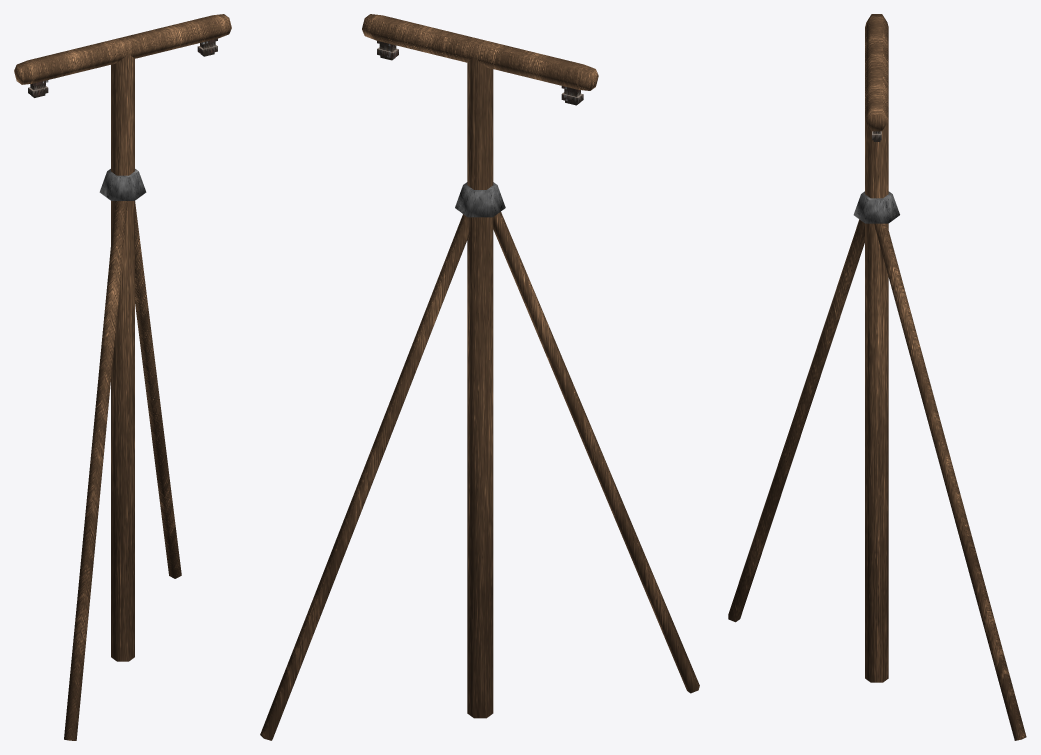
File: LightPillar.fbx
3 views of the same model, side by side, from view 1: azimuth 30°, elevation 25°; view 2: azimuth 150°, elevation 25°; view 3: azimuth 270°, elevation 25° (orthographic). The views are drawn at different scales.
Visible parts, largest first — view 1: LightPillar_LOD0; view 2: LightPillar_LOD0; view 3: LightPillar_LOD0.
Part boxes in pixels (x1,y1,x2,y2): LightPillar_LOD0: [14, 14, 231, 740]; LightPillar_LOD0: [260, 14, 699, 740]; LightPillar_LOD0: [728, 14, 1026, 740].
Size of what is drawn, in the model's own units: 3.13 by 7.13 by 3.12.
1 material, 1 textured.
